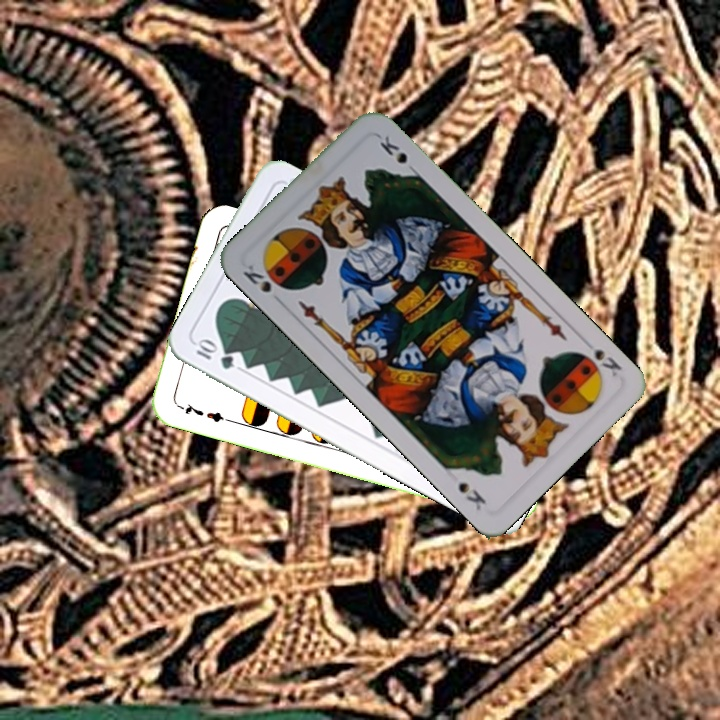E7: (174, 399, 232, 425)
G10: (191, 334, 237, 372)
SK: (573, 334, 625, 379), (238, 260, 274, 295)
